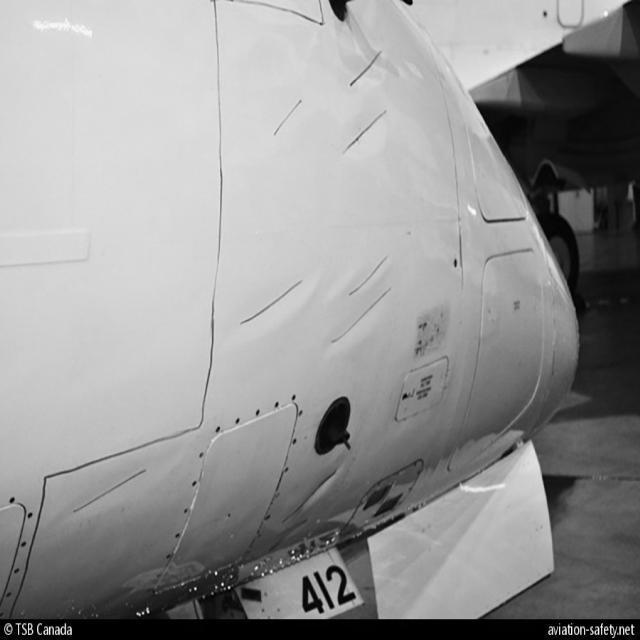dent: (329, 104, 408, 182)
